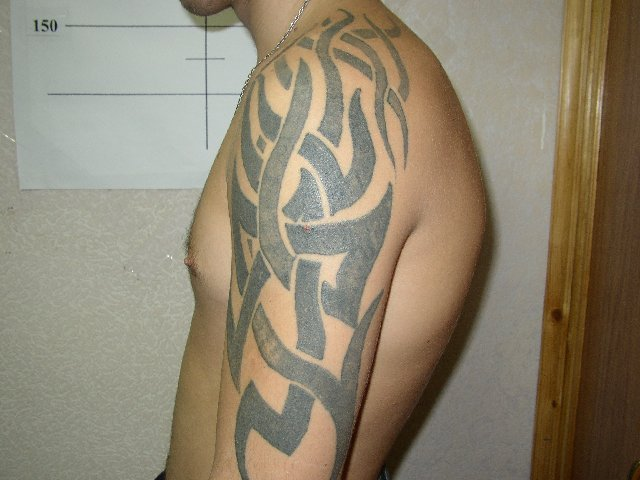tatu7_zmeya: (225, 24, 411, 472)
